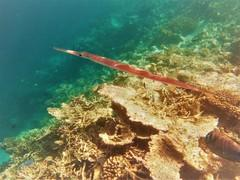Fistularia commersonii: (43, 37, 229, 105)
